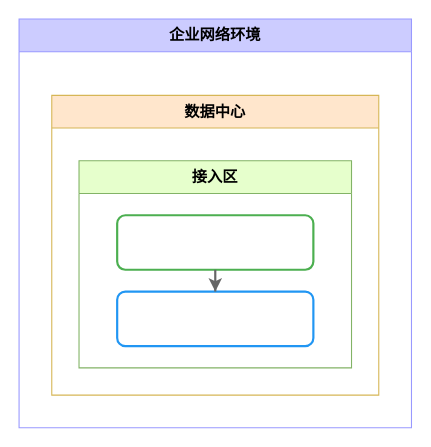
The diagram is 431 pixels wide and 447 high, and some of its shapes have lost their labels. The shapes that lost their labels are listed below. From the top down, each one's centre as x and y in pixels, then its label:
(215,242): 核心路由器
(215,318): 交换机
